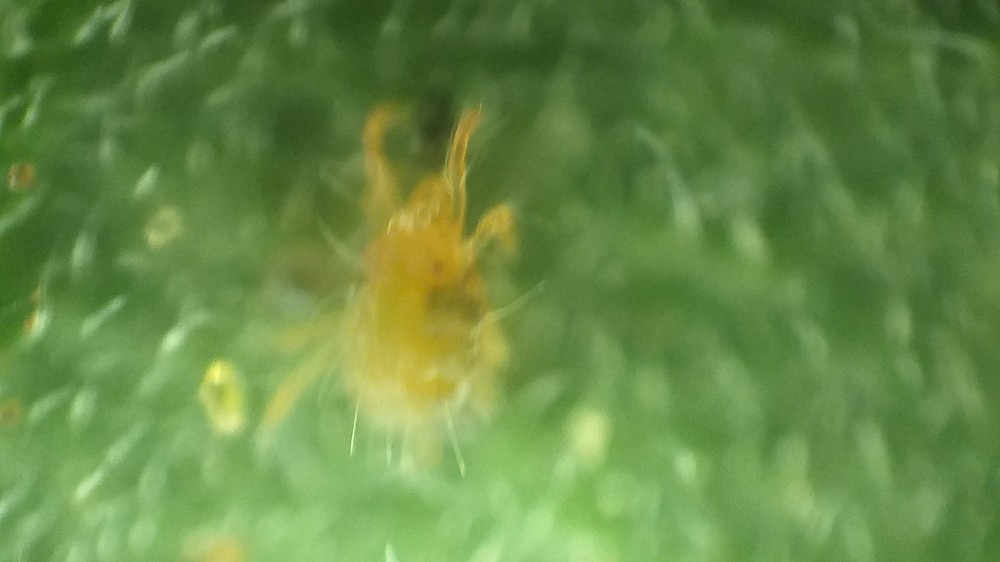Aracnido Rojo: (285, 92, 547, 472)
